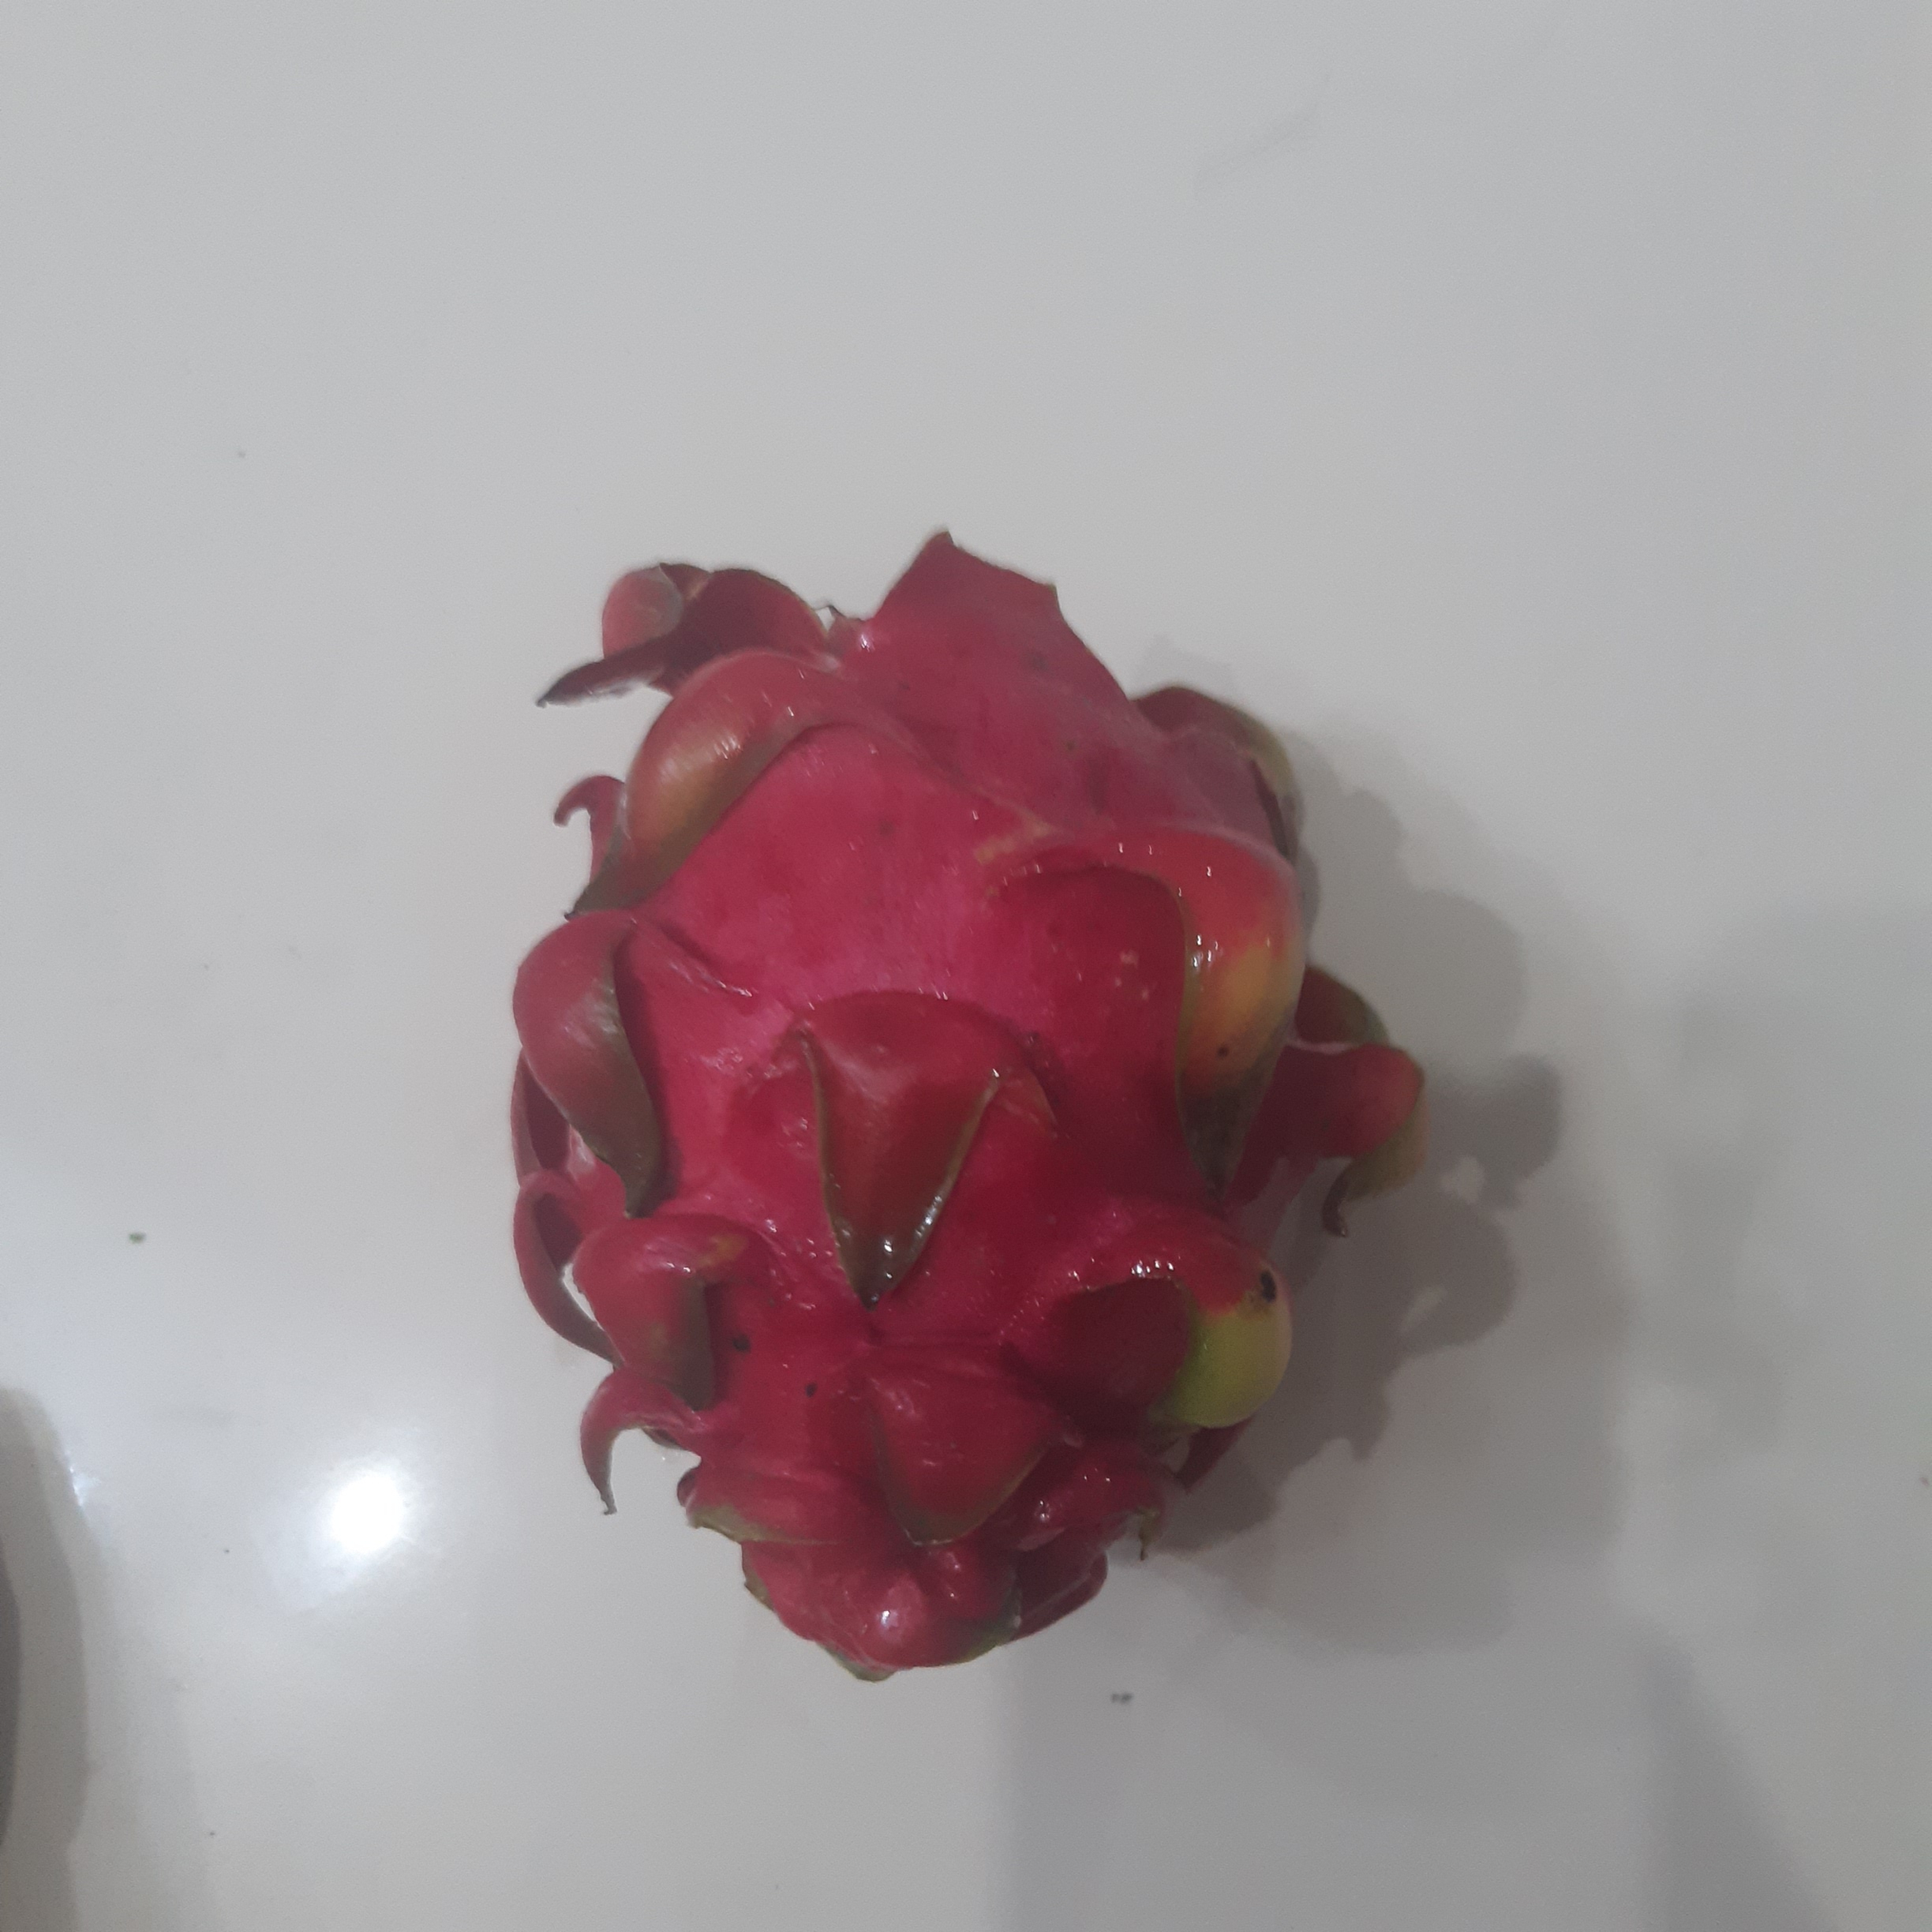Thanh long: (514, 565, 1349, 1681)
